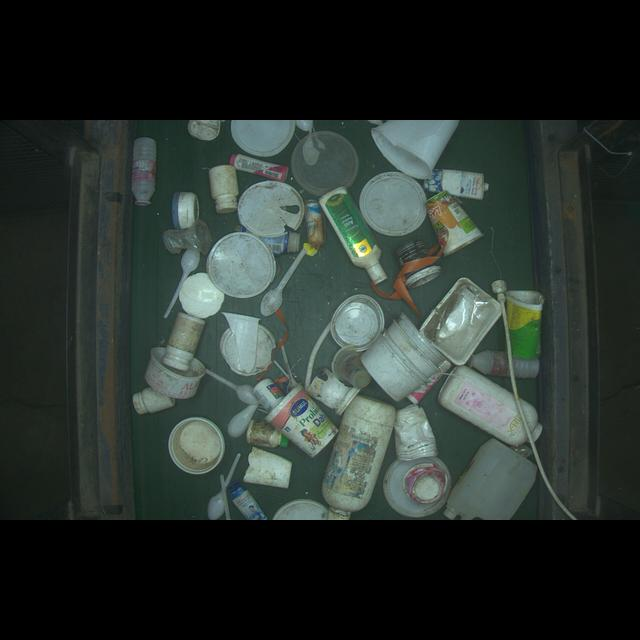mix PP: (322, 189, 384, 284), (128, 130, 165, 212), (165, 309, 201, 377), (228, 150, 295, 179), (172, 185, 204, 238)
